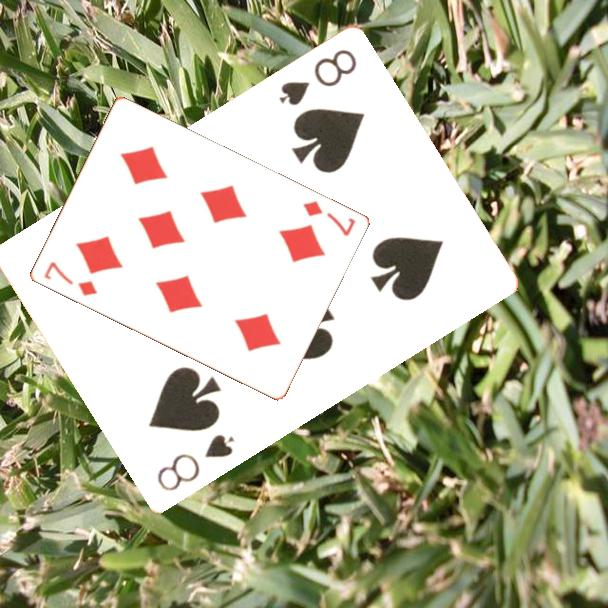d07: (299, 197, 358, 239), (40, 258, 99, 299)
s08: (275, 46, 360, 110), (153, 431, 237, 495)
